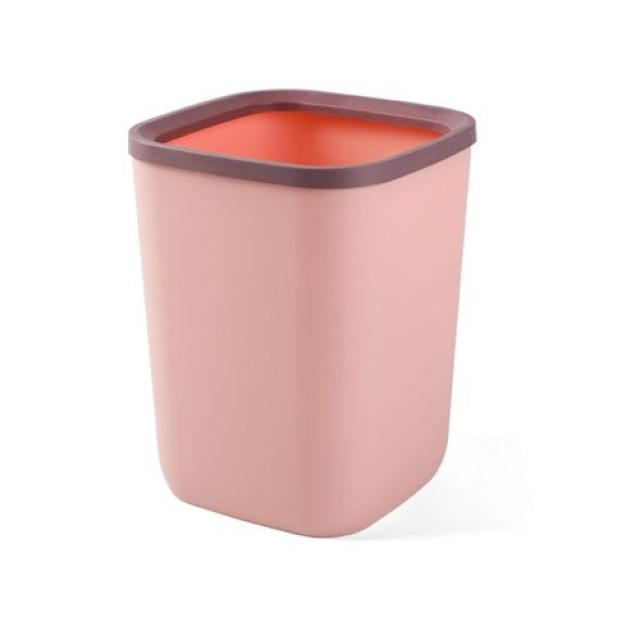dustbin: (123, 74, 485, 545)
